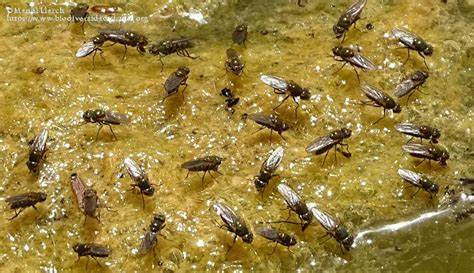Ephydridae: (310, 203, 356, 254), (388, 25, 436, 72), (212, 202, 257, 251), (68, 170, 104, 223), (330, 44, 377, 82), (303, 127, 351, 164), (252, 144, 285, 197), (276, 183, 314, 227), (253, 222, 300, 257), (125, 157, 157, 208), (137, 211, 167, 263), (397, 167, 441, 201), (147, 35, 195, 66), (181, 153, 223, 188), (356, 85, 399, 119), (24, 126, 51, 180), (5, 189, 49, 222), (251, 109, 291, 143), (394, 122, 444, 149), (333, 3, 365, 44), (157, 67, 190, 104), (399, 144, 452, 167), (69, 243, 110, 271), (393, 72, 428, 104), (83, 109, 120, 138), (72, 36, 103, 65), (106, 33, 144, 54), (226, 48, 245, 79), (231, 20, 249, 47)
